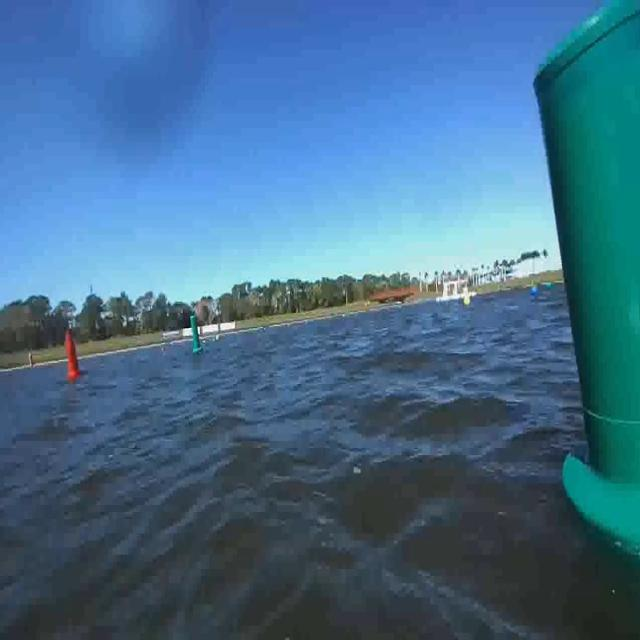green-column-buoy: (519, 12, 640, 574), (186, 308, 208, 359)
red-column-buoy: (64, 328, 86, 384)
